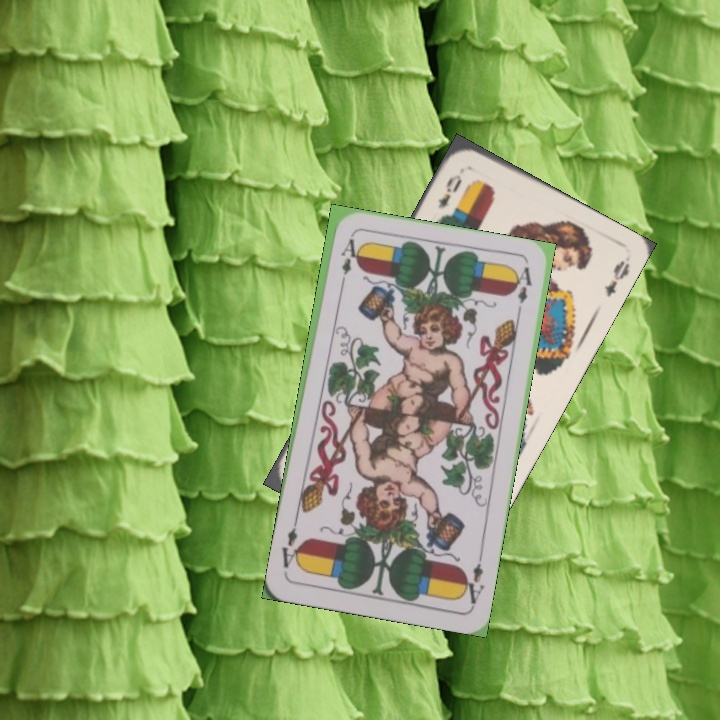EA: (457, 550, 487, 609), (336, 234, 358, 291)
EO: (433, 165, 467, 212)
